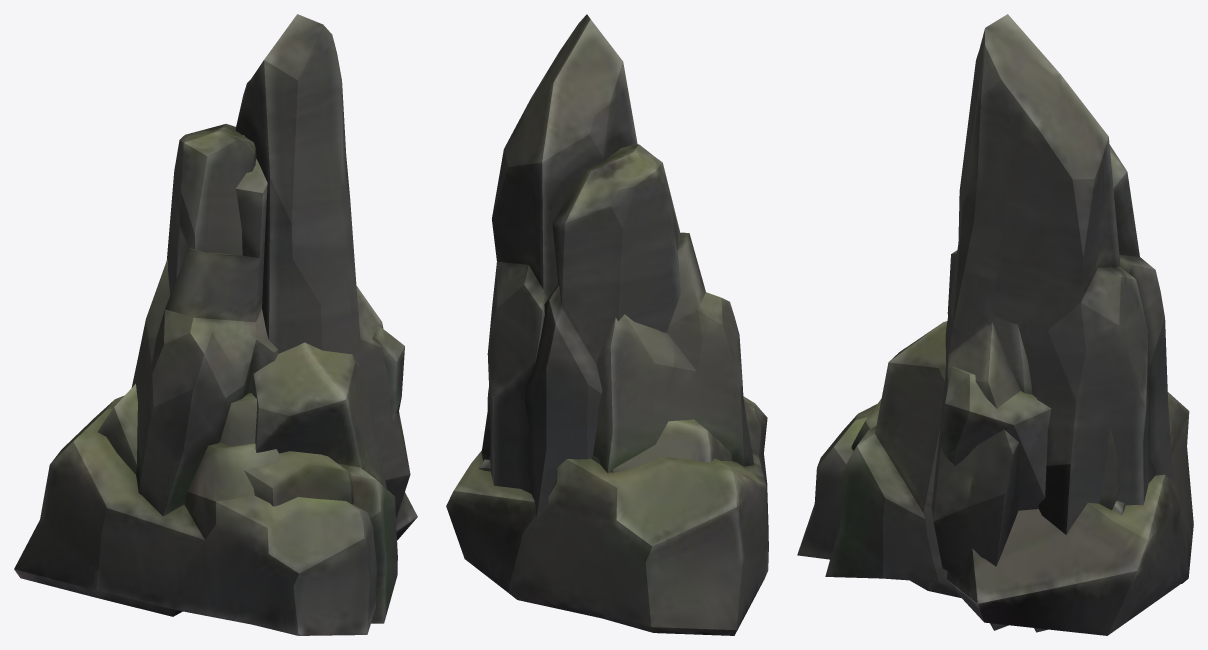
File: rocks.glb
The picture shows the model from 3 angles, left to right: view 1: azimuth 30°, elevation 25°; view 2: azimuth 150°, elevation 25°; view 3: azimuth 270°, elevation 25°; orthographic projection. The views are drawn at different scales.
Parts seen in each view (by area): view 1: Rock_5, Rock_4, Rock_1, Rock_2, Rock_3; view 2: Rock_5, Rock_4, Rock_2; view 3: Rock_4, Rock_5, Rock_1, Rock_3.
Boxes of the visible parts, bbox=[...] form: Rock_5: bbox=[14, 135, 417, 635]; Rock_4: bbox=[166, 14, 410, 518]; Rock_1: bbox=[251, 342, 397, 623]; Rock_2: bbox=[98, 384, 353, 506]; Rock_3: bbox=[372, 327, 404, 420]; Rock_5: bbox=[446, 155, 768, 635]; Rock_4: bbox=[487, 14, 681, 518]; Rock_2: bbox=[479, 419, 731, 472]; Rock_4: bbox=[931, 14, 1174, 576]; Rock_5: bbox=[797, 250, 1193, 635]; Rock_1: bbox=[825, 321, 1008, 630]; Rock_3: bbox=[910, 297, 1051, 632].
Size of the model in its own units: 1.29 by 2.15 by 1.32.
Materials: 1 (1 with a texture image).
